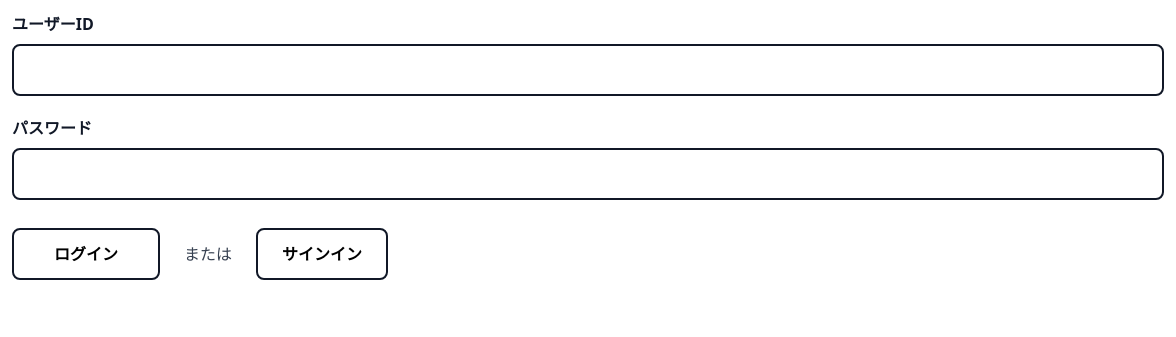
Scenario: LoginForm › 失敗時はメッセージを表示し、IDだけを保持する
Type "Alice_1" into the field labelled "ユーザーID" at [588, 70], box [12,44,1164,96]
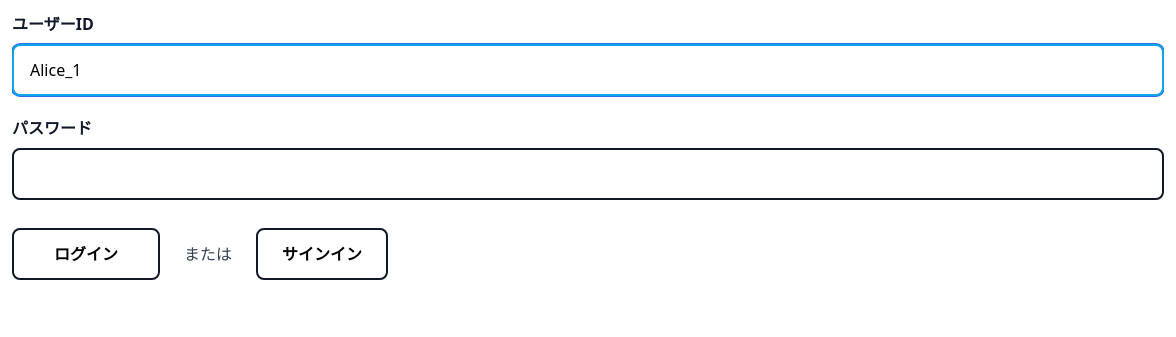
Type "wrong-pass" into the password field labelled "パスワード" at [588, 174], box [12,148,1164,200]
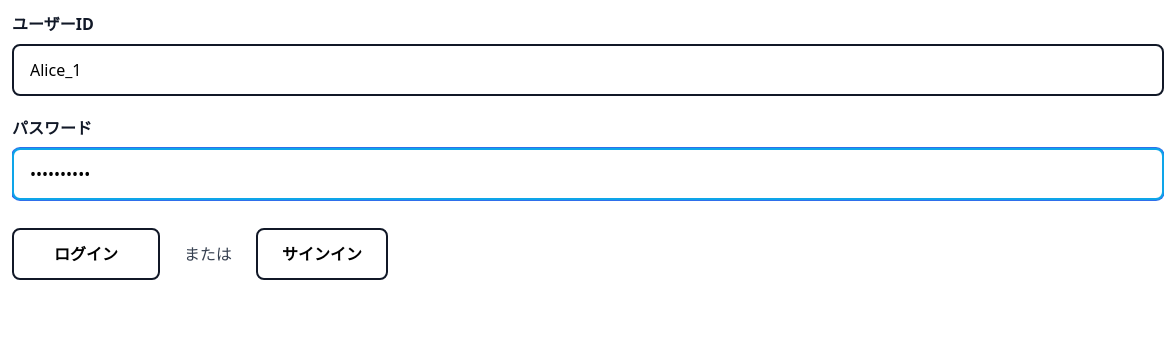
Click the button "ログイン" at [86, 254], box [12,228,160,280]
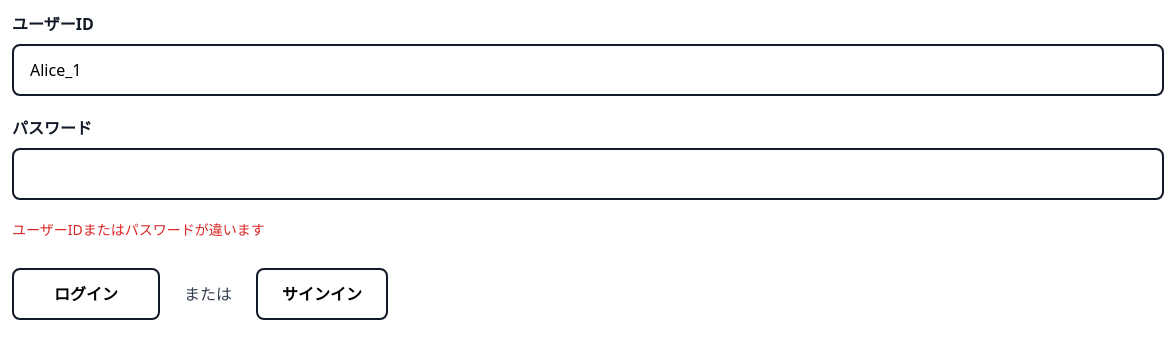
Now the field labelled "ユーザーID" holds "Alice_1", box [12,44,1164,96]
Now the message reads "ユーザーIDまたはパスワードが違います", box [12,220,265,239]
Now the password field labelled "パスワード" is empty, box [12,148,1164,200]
